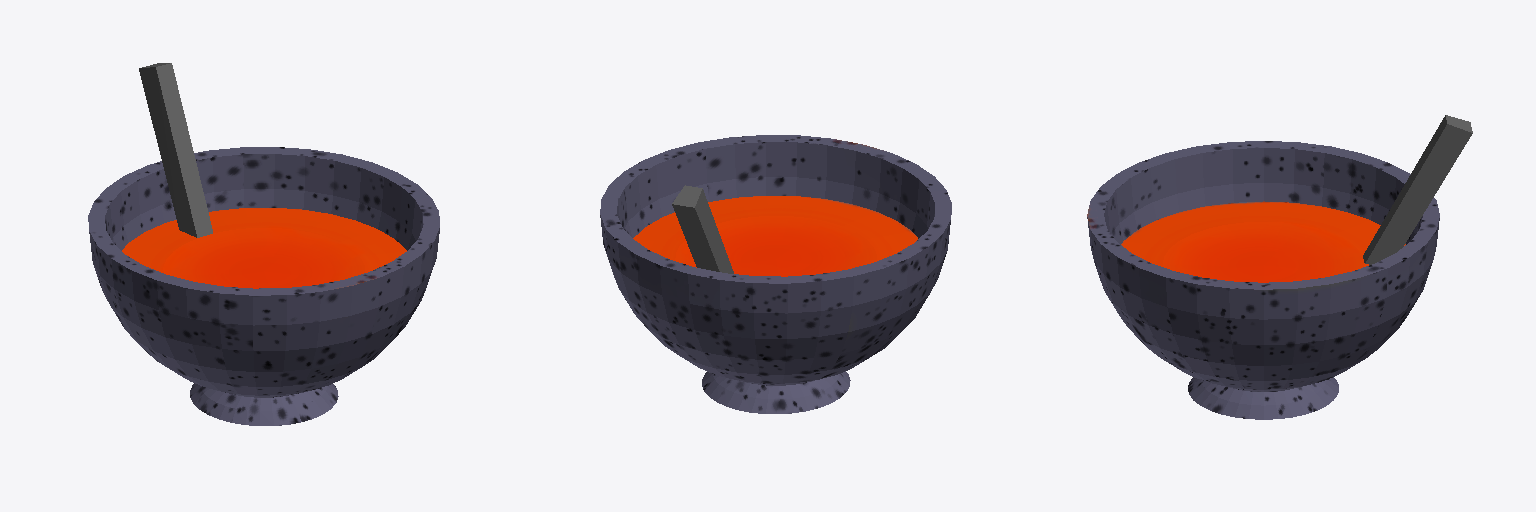
The picture shows the model from 3 angles: view 1: azimuth 30°, elevation 25°; view 2: azimuth 150°, elevation 25°; view 3: azimuth 270°, elevation 25°; orthographic projection.
Parts seen in each view (by area): view 1: Sphere; view 2: Sphere; view 3: Sphere.
Boxes of the visible parts, <box> form: Sphere: <box>88,63,439,425</box>; Sphere: <box>600,135,951,413</box>; Sphere: <box>1087,115,1472,419</box>.
Bounding box in the file's own units: 3.3 × 2.73 × 3.6.
1 materials, 1 textured.